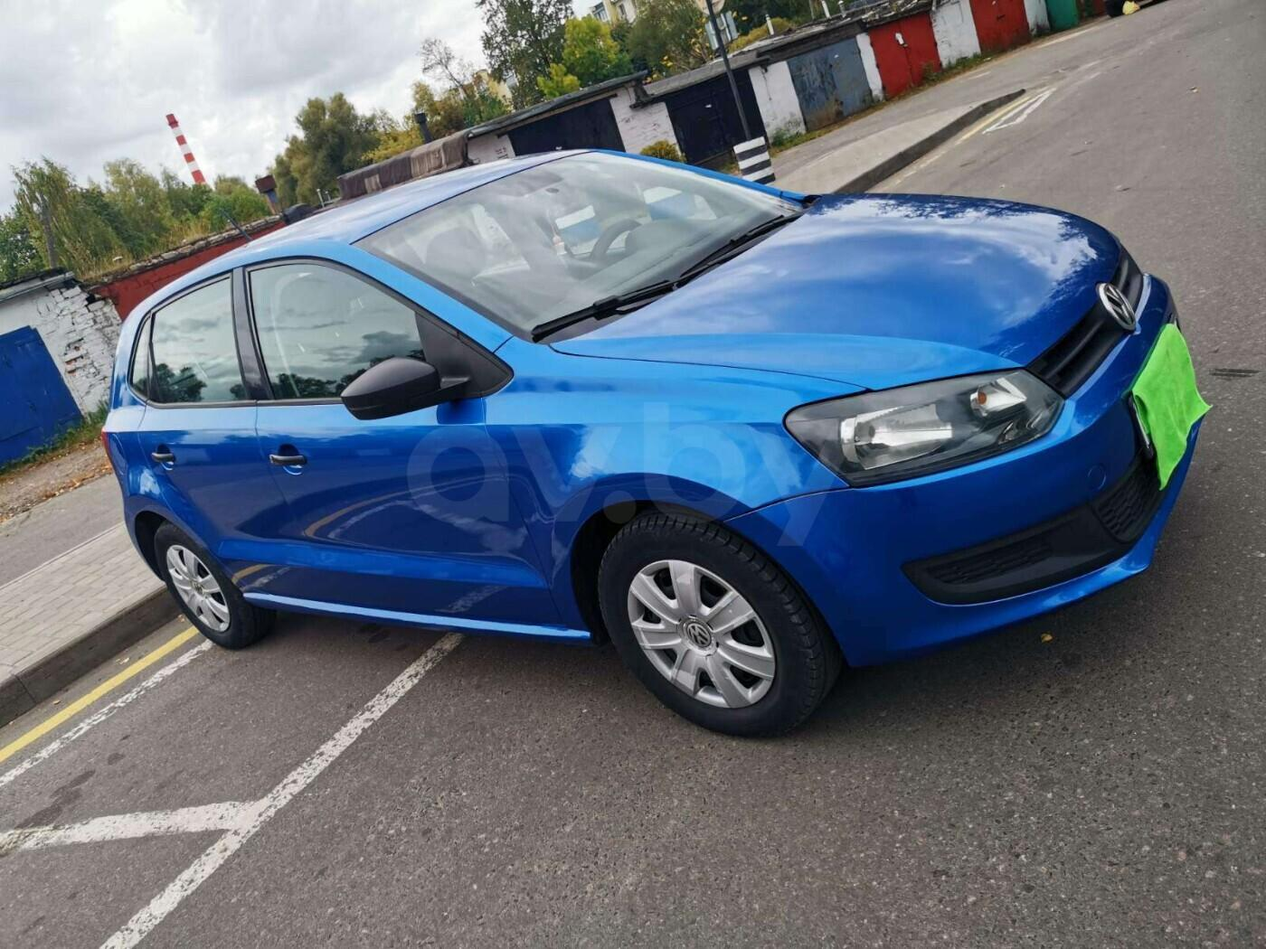Polo_2009-2015: (76, 134, 1233, 738)
